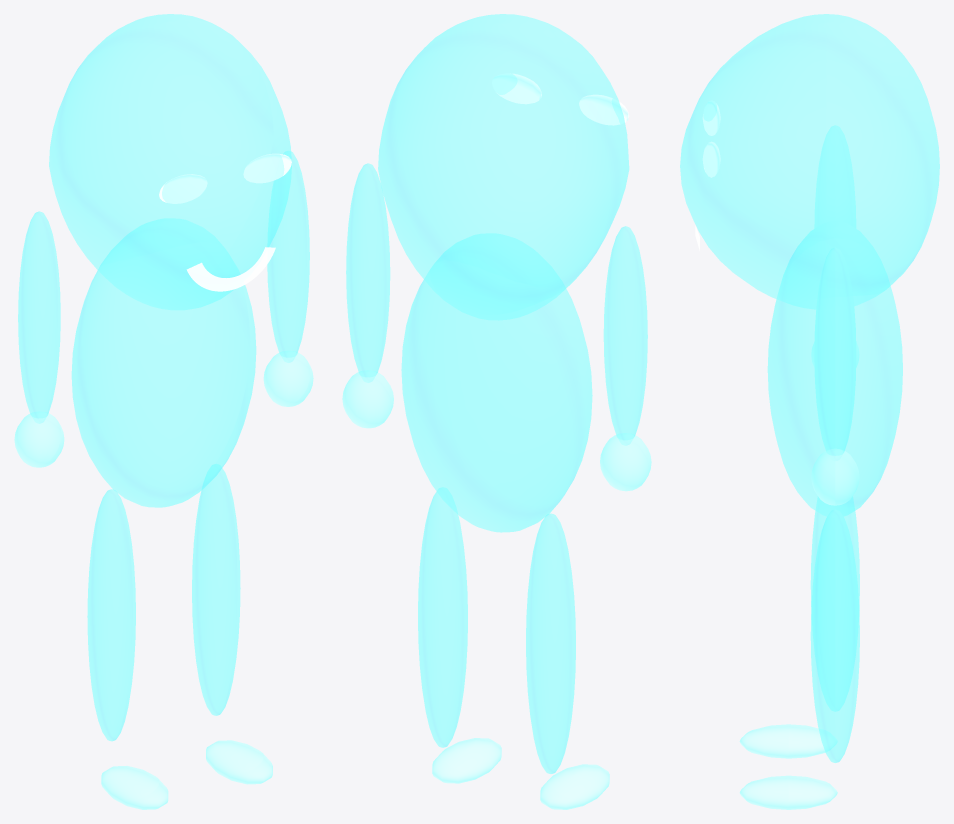
The model's file is hologram-female-face.gltf.
3 views of the same model, side by side, from view 1: azimuth 30°, elevation 25°; view 2: azimuth 150°, elevation 25°; view 3: azimuth 270°, elevation 25° (orthographic). The views are drawn at different scales.
Parts seen in each view (by area): view 1: Head_Main, Torso_Main, Leg_Left, Leg_Right, Arm_Left, Arm_Right, Foot_Left, Foot_Right, Hand_Left, Hand_Right, Mouth_Main, Eye_Right (+1 smaller); view 2: Head_Main, Torso_Main, Leg_Left, Leg_Right, Arm_Right, Arm_Left, Foot_Left, Foot_Right, Hand_Right, Hand_Left, Eye_Left, Eye_Right; view 3: Head_Main, Torso_Main, Leg_Right, Leg_Left, Arm_Right, Arm_Left, Foot_Right, Foot_Left, Hand_Right, Eye_Right, Eye_Left.
Boxes of the visible parts, bbox=[...] form: Head_Main: bbox=[49, 14, 291, 310]; Torso_Main: bbox=[71, 218, 256, 507]; Leg_Left: bbox=[87, 489, 135, 741]; Leg_Right: bbox=[192, 464, 240, 715]; Arm_Left: bbox=[18, 211, 60, 423]; Arm_Right: bbox=[267, 151, 309, 362]; Foot_Left: bbox=[101, 766, 168, 809]; Foot_Right: bbox=[206, 740, 272, 784]; Hand_Left: bbox=[14, 411, 64, 467]; Hand_Right: bbox=[263, 351, 313, 406]; Mouth_Main: bbox=[186, 247, 275, 291]; Eye_Right: bbox=[243, 153, 291, 183]; Head_Main: bbox=[378, 14, 629, 320]; Torso_Main: bbox=[401, 233, 592, 532]; Leg_Left: bbox=[526, 513, 575, 773]; Leg_Right: bbox=[418, 487, 467, 747]; Arm_Right: bbox=[346, 163, 390, 382]; Arm_Left: bbox=[603, 226, 647, 445]; Foot_Left: bbox=[540, 764, 609, 809]; Foot_Right: bbox=[432, 738, 501, 783]; Hand_Right: bbox=[342, 370, 393, 428]; Hand_Left: bbox=[600, 433, 651, 491]; Eye_Left: bbox=[579, 94, 629, 125]; Eye_Right: bbox=[492, 73, 541, 104]; Head_Main: bbox=[680, 14, 939, 309]; Torso_Main: bbox=[767, 221, 902, 517]; Leg_Right: bbox=[810, 509, 859, 762]; Leg_Left: bbox=[810, 497, 859, 711]; Arm_Right: bbox=[814, 247, 856, 460]; Arm_Left: bbox=[814, 125, 855, 227]; Foot_Right: bbox=[739, 775, 837, 809]; Foot_Left: bbox=[739, 724, 837, 758]; Hand_Right: bbox=[811, 449, 859, 505]; Eye_Right: bbox=[702, 141, 720, 177]; Eye_Left: bbox=[702, 100, 720, 135].
Bounding box in the file's own units: 146 × 358 × 111.
